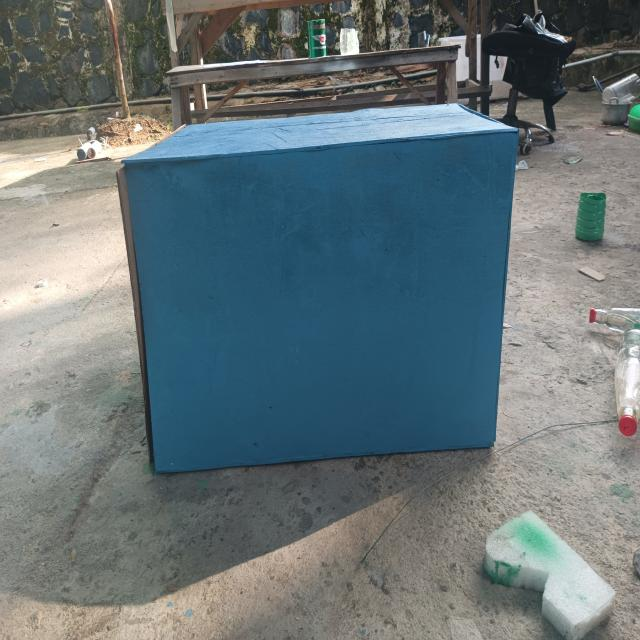blue_box: (106, 107, 505, 458)
